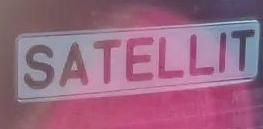1: (216, 27, 231, 78)
A: (53, 37, 94, 89)
E: (123, 33, 156, 83)
L: (185, 29, 219, 79), (154, 31, 186, 83)
S: (19, 37, 60, 100)
T: (89, 36, 125, 90), (225, 24, 256, 82)
